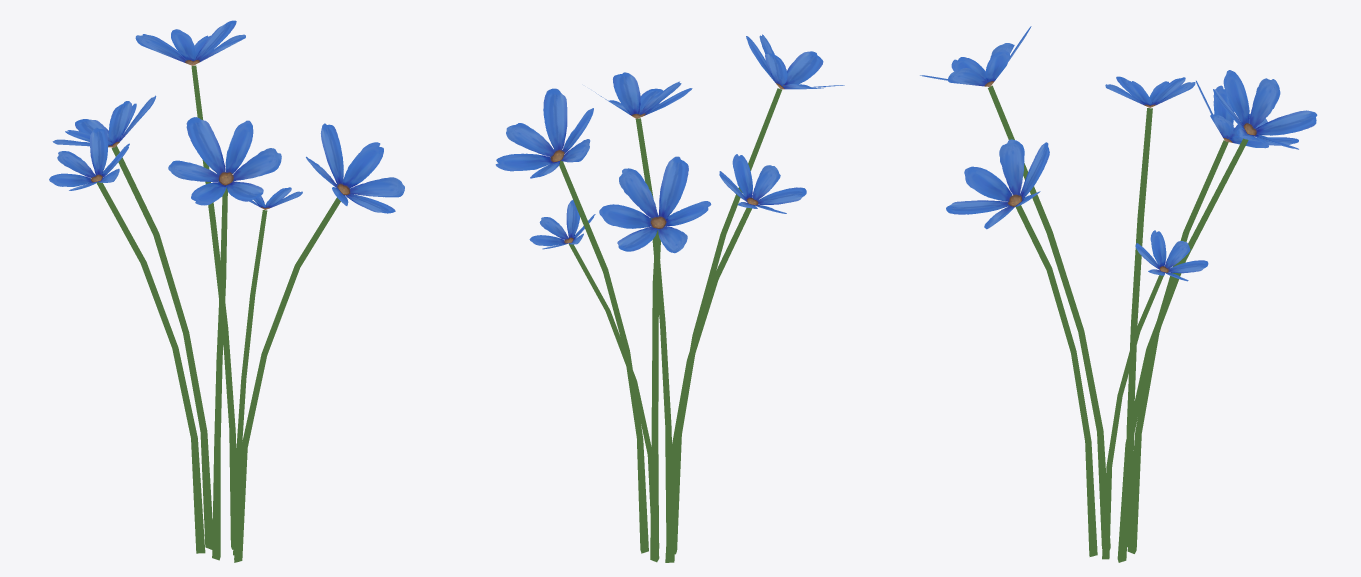
The model's file is MEADOW_SM_Flower_03_02.gltf.
The picture shows the model from 3 angles, left to right: view 1: azimuth 30°, elevation 25°; view 2: azimuth 150°, elevation 25°; view 3: azimuth 270°, elevation 25°; orthographic projection.
Visible parts, largest first — view 1: SM_Flower_03_02_LOD0; view 2: SM_Flower_03_02_LOD0; view 3: SM_Flower_03_02_LOD0.
Part boxes in pixels (box(x1,y1,x2,y2)): SM_Flower_03_02_LOD0: box(49, 20, 404, 562); SM_Flower_03_02_LOD0: box(495, 34, 844, 562); SM_Flower_03_02_LOD0: box(920, 26, 1317, 562).
Size of the model in its own units: 0.4366 by 0.6475 by 0.5004.
Materials: 1 (1 with a texture image).
